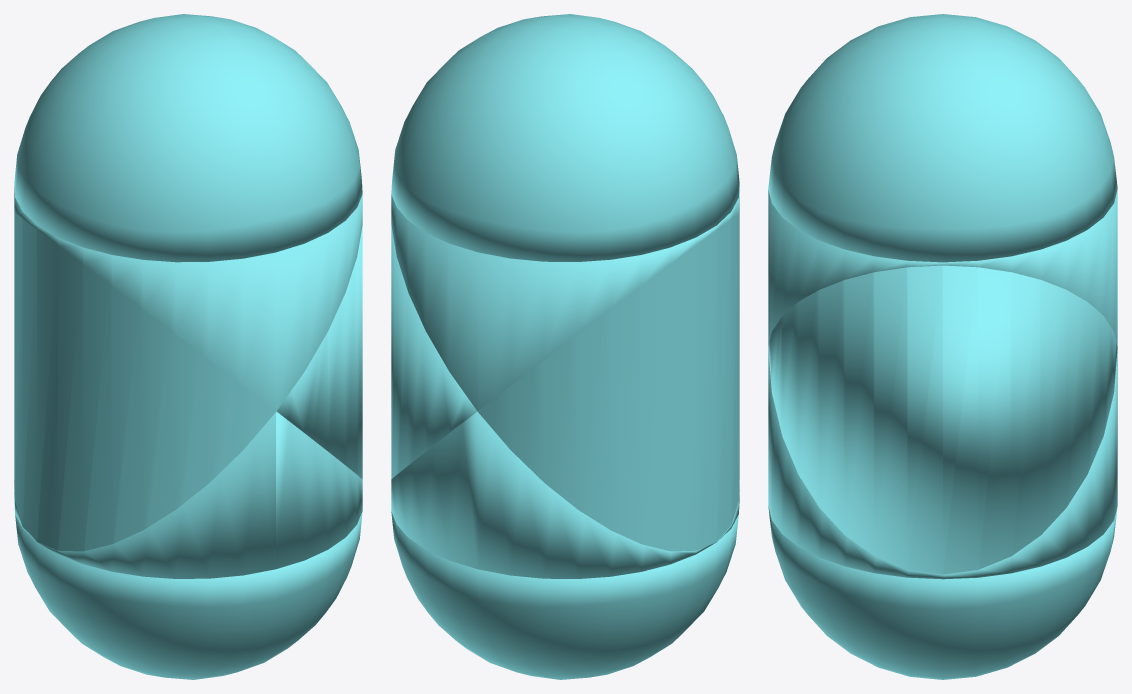
File: even head bisect.fbx
3 views of the same model, side by side, from view 1: azimuth 30°, elevation 25°; view 2: azimuth 150°, elevation 25°; view 3: azimuth 270°, elevation 25° (orthographic).
Parts seen in each view (by area): view 1: enemyhead.005, enemyhead.002, enemyhead.007, enemyhead.006, enemyhead.004, enemyhead.001, enemyhead.0, enemyhead.003; view 2: enemyhead.005, enemyhead.002, enemyhead.007, enemyhead.006, enemyhead.004, enemyhead.001, enemyhead.0, enemyhead.003; view 3: enemyhead.0, enemyhead.001, enemyhead.003, enemyhead.006, enemyhead.007, enemyhead.002.
Part boxes in pixels (x1,y1,x2,y2): enemyhead.005: (14, 214, 276, 551); enemyhead.002: (14, 18, 275, 262); enemyhead.007: (14, 187, 362, 410); enemyhead.006: (14, 411, 362, 578); enemyhead.004: (15, 514, 275, 679); enemyhead.001: (155, 14, 362, 252); enemyhead.0: (276, 225, 362, 479); enemyhead.003: (238, 511, 362, 671); enemyhead.005: (477, 214, 739, 551); enemyhead.002: (478, 18, 739, 261); enemyhead.007: (391, 187, 739, 410); enemyhead.006: (391, 411, 739, 578); enemyhead.004: (478, 514, 738, 679); enemyhead.001: (391, 14, 598, 252); enemyhead.0: (391, 225, 477, 479); enemyhead.003: (391, 511, 515, 671); enemyhead.0: (768, 265, 1117, 574); enemyhead.001: (768, 30, 1117, 262); enemyhead.003: (768, 506, 1117, 679); enemyhead.006: (768, 350, 1117, 579); enemyhead.007: (768, 189, 1117, 346); enemyhead.002: (772, 14, 1113, 154).
Bounding box in the file's own units: 50 × 100 × 50.
